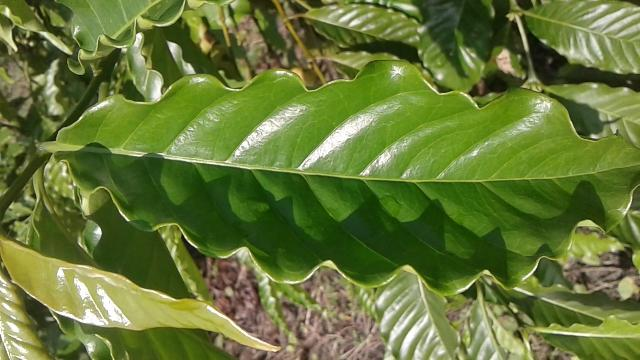healthy: (54, 56, 640, 298)
